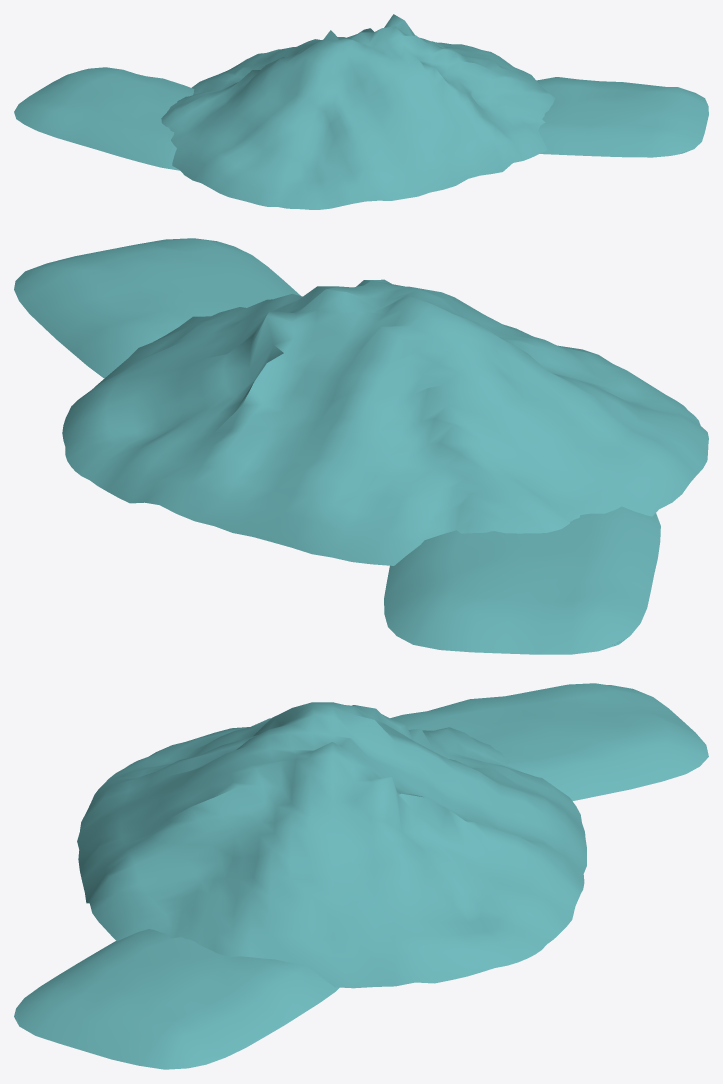
Rendered from textiles_towel_crumpled.fbx.
The picture shows the model from 3 angles, top to bottom: view 1: azimuth 30°, elevation 25°; view 2: azimuth 150°, elevation 25°; view 3: azimuth 270°, elevation 25°; orthographic projection. The views are drawn at different scales.
Parts seen in each view (by area): view 1: textiles_towel_crumpled; view 2: textiles_towel_crumpled; view 3: textiles_towel_crumpled.
Part boxes in pixels (x1=…): textiles_towel_crumpled: x1=14, y1=14, x2=708, y2=209; textiles_towel_crumpled: x1=14, y1=238, x2=708, y2=654; textiles_towel_crumpled: x1=14, y1=683, x2=708, y2=1069.
Size of the model in its own units: 0.7198 by 0.1347 by 0.5481.
